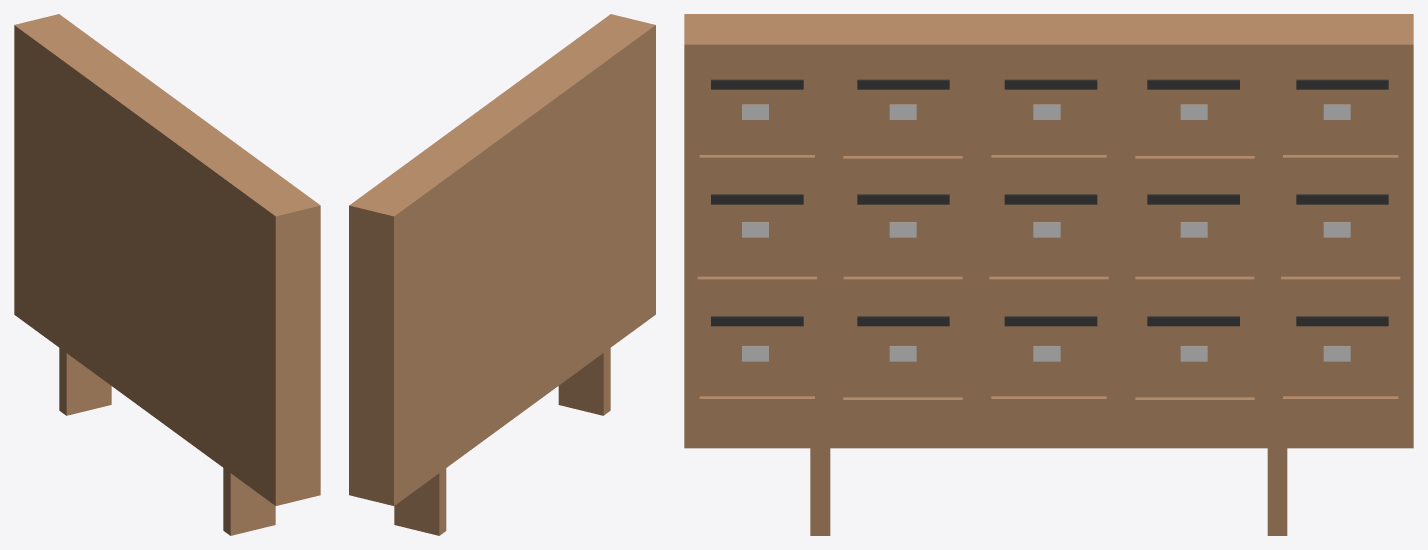
Rendered from locker.fbx.
3 views of the same model, side by side, from view 1: azimuth 30°, elevation 25°; view 2: azimuth 150°, elevation 25°; view 3: azimuth 270°, elevation 25° (orthographic). The views are drawn at different scales.
Visible parts, largest first — view 1: Cube.011; view 2: Cube.011; view 3: Cube.011.
Part boxes in pixels (x1=…): Cube.011: x1=14, y1=14, x2=320, y2=535; Cube.011: x1=349, y1=14, x2=655, y2=535; Cube.011: x1=684, y1=14, x2=1413, y2=535.
Bounding box in the file's own units: 38.9 × 291 × 392.
